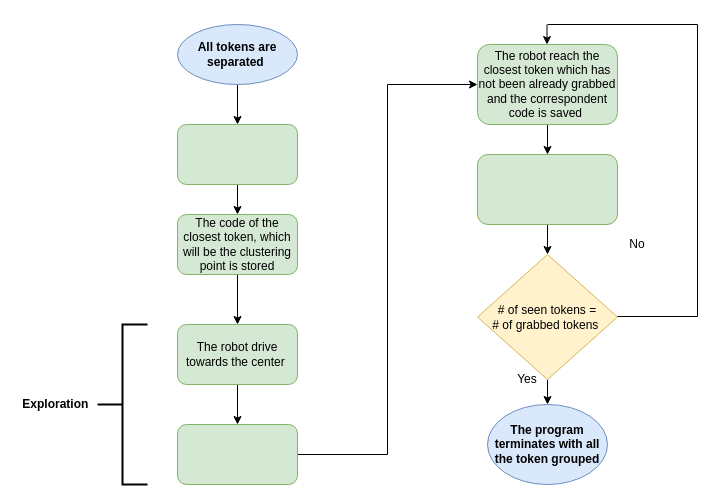
Image size: 716x503. Some labels were removed from this diagram. The shapes that lost their labels are listed below. From the top down, each one's centre as x and y in pixels, then its label:
[237,154]: The robot identify all the tokens in its field of view
[547,189]: The robot brings the token to the clustering point
[237,454]: The robot rotates about 360 deg and identify the number of tokens
